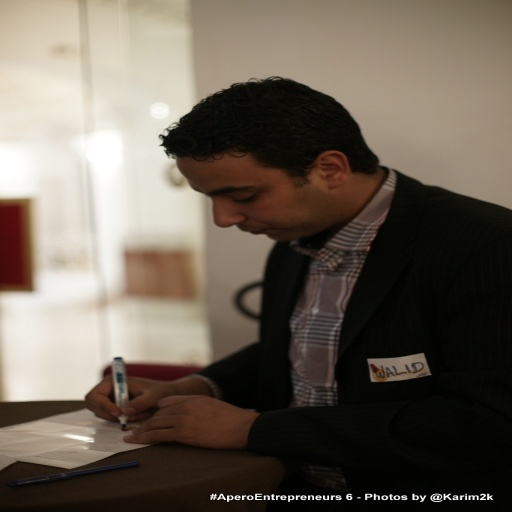hand: (103, 388, 266, 456), (78, 373, 174, 425)
